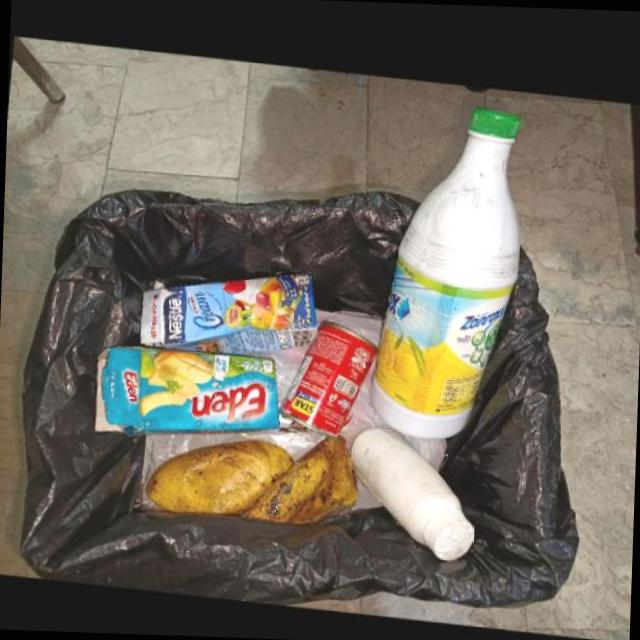carton: (94, 345, 280, 436)
chai_nhua: (369, 105, 521, 439), (349, 425, 474, 559)
nhom: (278, 319, 378, 440)
vo_hop_sua: (140, 272, 318, 353)
vo_trai_cay: (146, 439, 295, 515), (240, 433, 359, 524)
